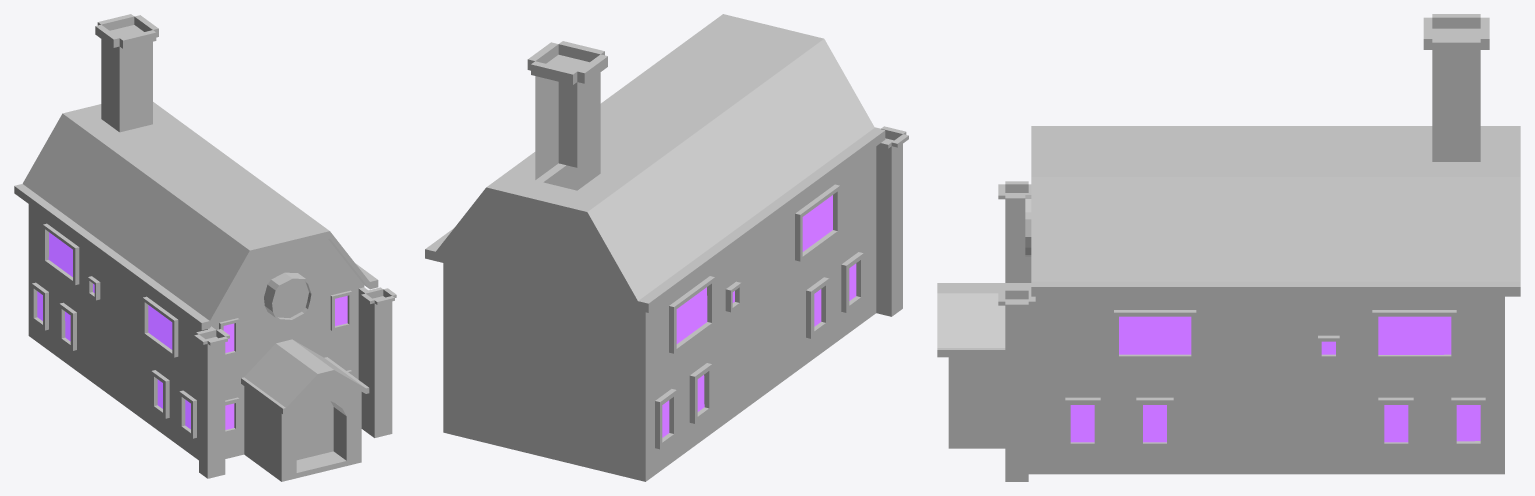
Rendered from ModeloIgreja.fbx.
The picture shows the model from 3 angles, left to right: view 1: azimuth 30°, elevation 25°; view 2: azimuth 150°, elevation 25°; view 3: azimuth 270°, elevation 25°; orthographic projection. The views are drawn at different scales.
Visible parts, largest first — view 1: Cube; view 2: Cube; view 3: Cube.
Boxes of the visible parts, box(x1,y1,x2,y2) form: Cube: box(14, 14, 396, 481); Cube: box(425, 14, 908, 481); Cube: box(937, 14, 1520, 481).
Bounding box in the file's own units: 2192 × 3273 × 4383.
